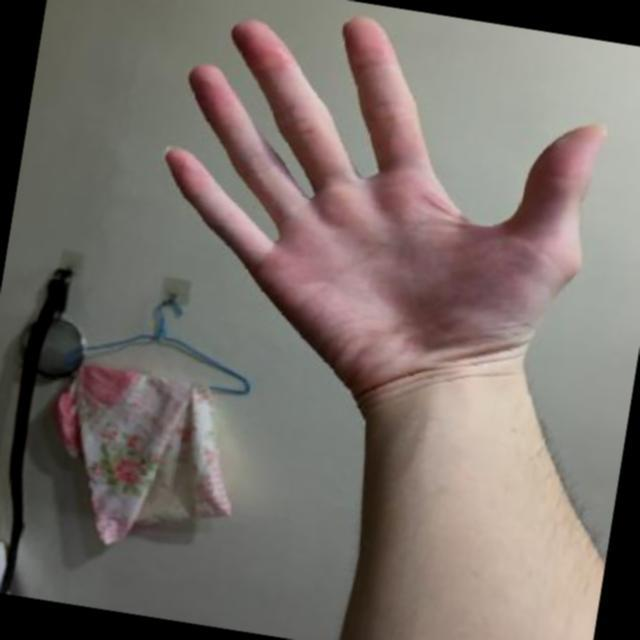hand: (145, 5, 625, 337)
